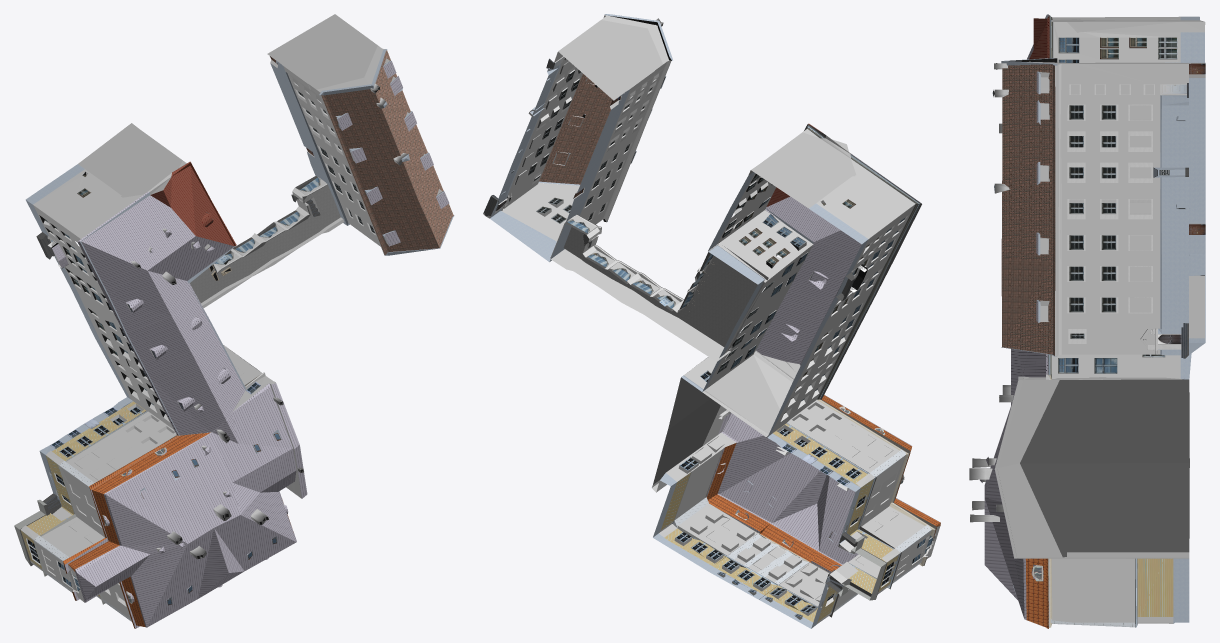
File: Suur-Kloostri_16_1-origo.obj
3 views of the same model, side by side, from view 1: azimuth 30°, elevation 25°; view 2: azimuth 150°, elevation 25°; view 3: azimuth 270°, elevation 25° (orthographic). The views are drawn at different scales.
Visible parts, largest first — view 1: Gustav_Adolfi_Gumnaasium, Suur_Klostri_10, Aida_2; view 2: Suur_Klostri_10, Gustav_Adolfi_Gumnaasium, Aida_2; view 3: Aida_2, Gustav_Adolfi_Gumnaasium, Suur_Klostri_10.
Boxes of the visible parts, x1=… form: Gustav_Adolfi_Gumnaasium: x1=14, y1=345, x2=307, y2=628; Suur_Klostri_10: x1=25, y1=123, x2=344, y2=435; Aida_2: x1=267, y1=14, x2=454, y2=255; Suur_Klostri_10: x1=550, y1=123, x2=921, y2=437; Gustav_Adolfi_Gumnaasium: x1=652, y1=350, x2=940, y2=628; Aida_2: x1=483, y1=14, x2=672, y2=261; Aida_2: x1=992, y1=58, x2=1205, y2=358; Gustav_Adolfi_Gumnaasium: x1=969, y1=374, x2=1189, y2=628; Suur_Klostri_10: x1=999, y1=14, x2=1205, y2=378.
Size of the model in its own units: 63.94 by 79 by 24.31.
